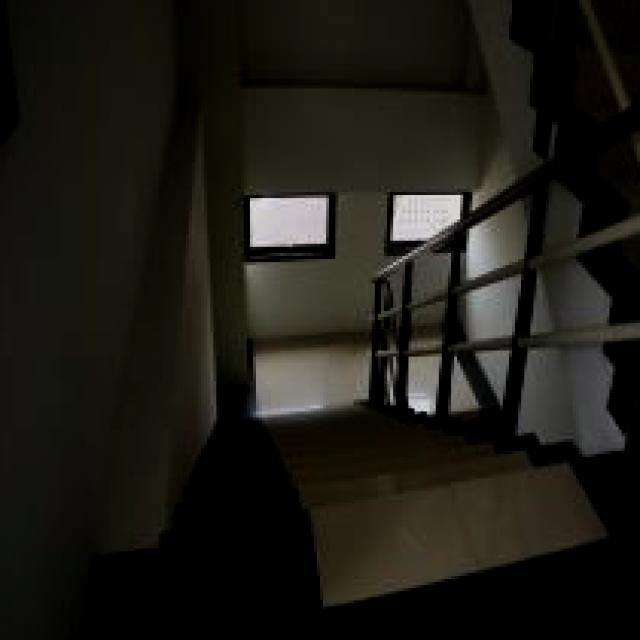downstair: (220, 425, 440, 605)
